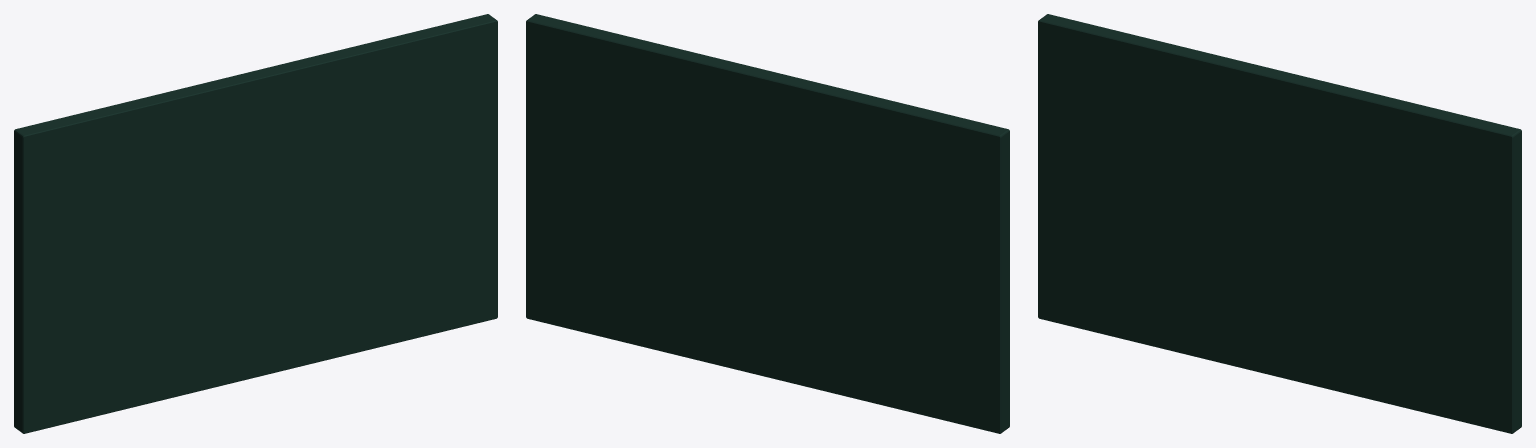
Rendered from sign_backplate.glb.
3 views of the same model, side by side, from view 1: azimuth 30°, elevation 25°; view 2: azimuth 150°, elevation 25°; view 3: azimuth 330°, elevation 25° (orthographic).
Visible parts, largest first — view 1: sign_backplate; view 2: sign_backplate; view 3: sign_backplate.
Part boxes in pixels (x1,y1,x2,y2): sign_backplate: (14, 14, 497, 433); sign_backplate: (526, 14, 1009, 433); sign_backplate: (1038, 14, 1521, 433).
Bounding box in the file's own units: 1 × 0.6 × 0.035.
